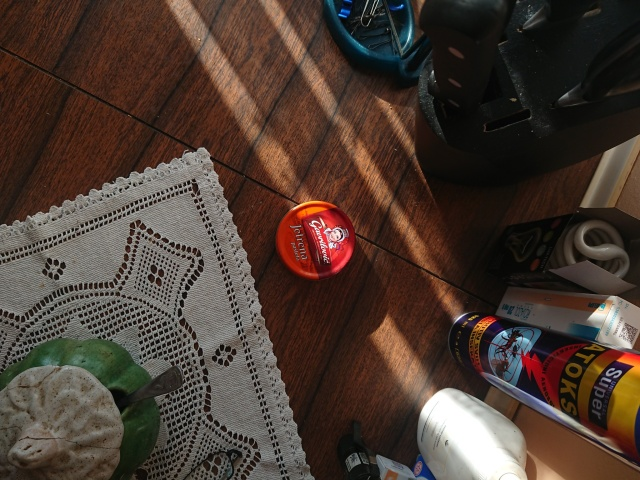Gavrilovic Pork Liver Pate 100g: (272, 197, 358, 282)
